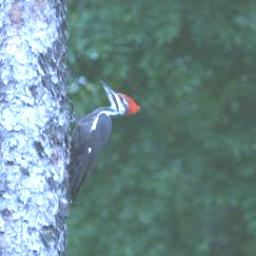Woodpecker: (63, 75, 139, 208)
